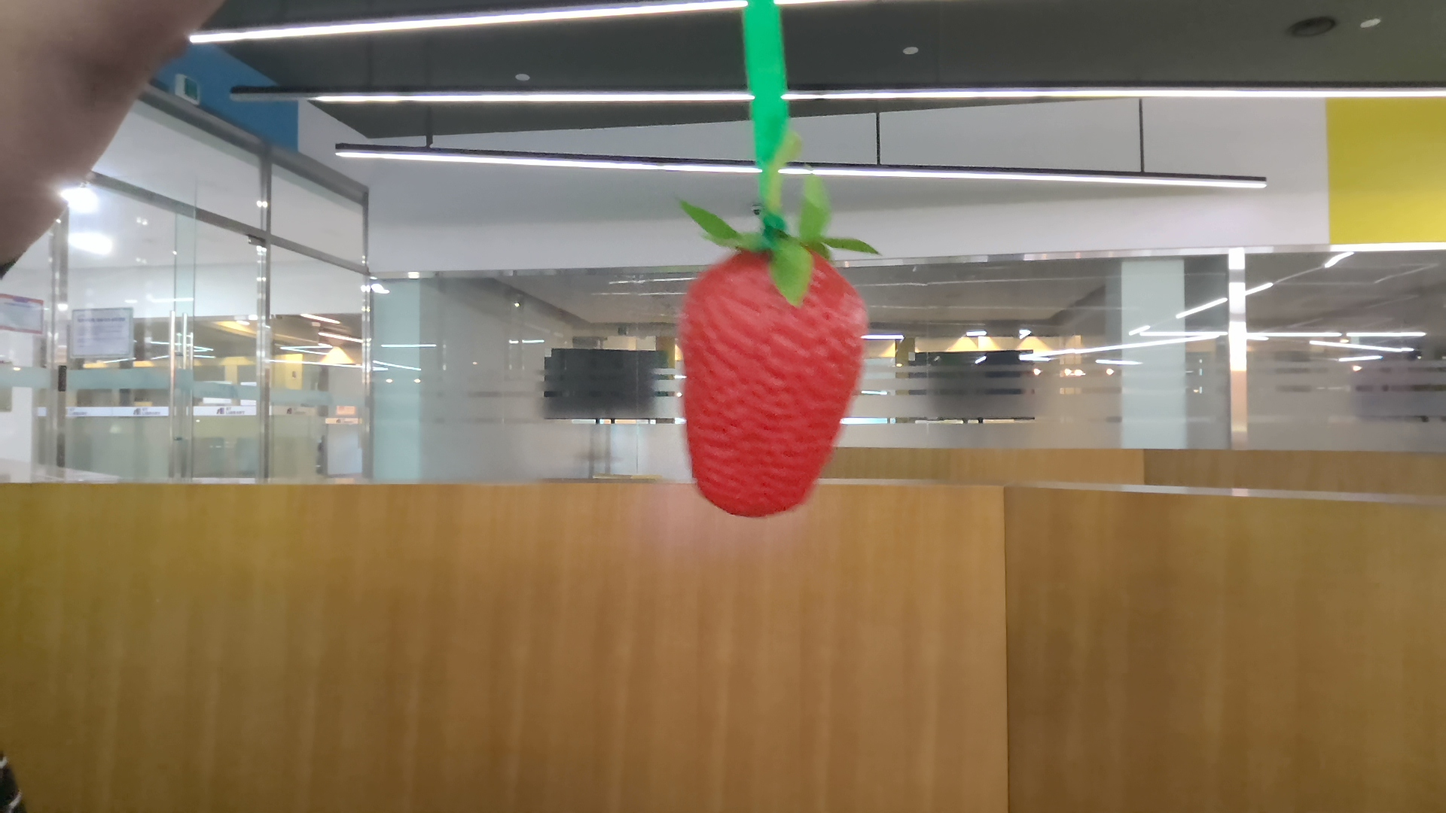strawberry: (648, 227, 886, 520)
